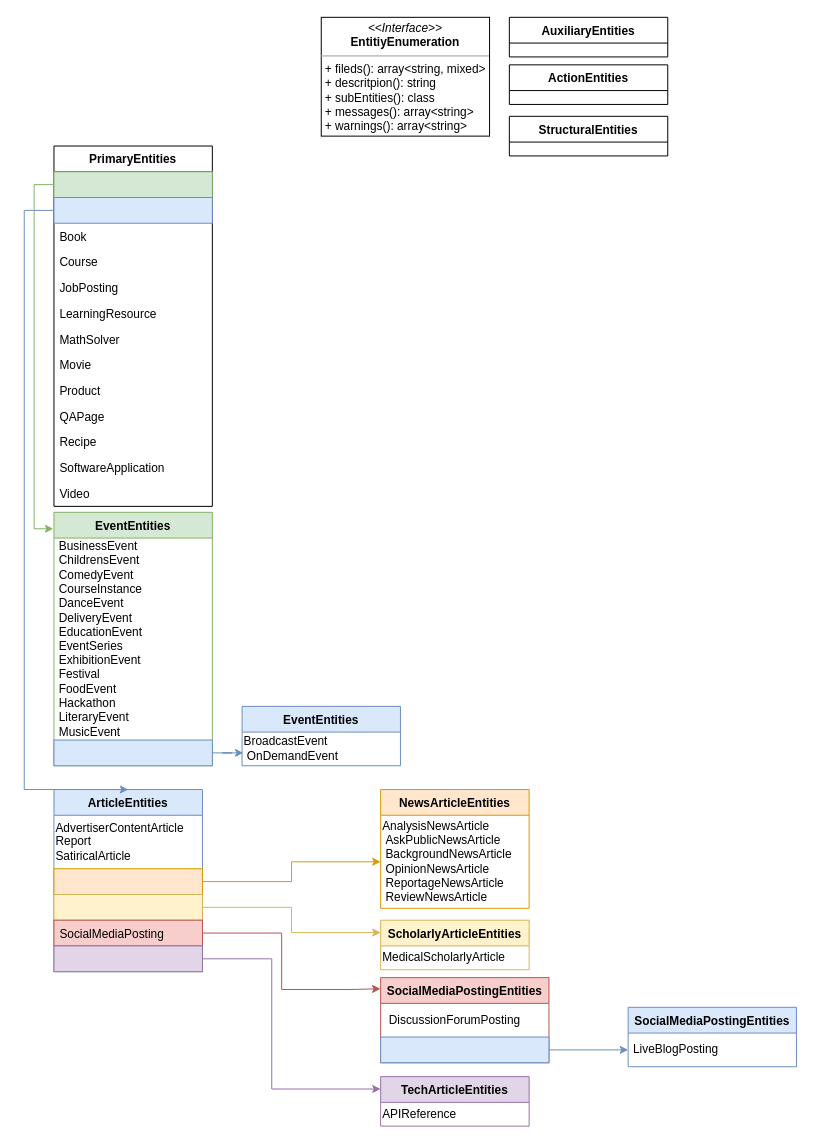
Image size: 814x1143. Some labels were removed from this diagram. The centre of each missing label's shape, as x and y in pixels:
"Article" goes at pixel 132 210.
"BlogPosting" goes at pixel 464 1049.
"Event" goes at pixel 132 184.
"NewsArticle" goes at pixel 127 881.
"PublicationEvent" goes at pixel 132 752.
"ScholarlyArticle" goes at pixel 127 906.
"TechArticle" goes at pixel 127 958.
